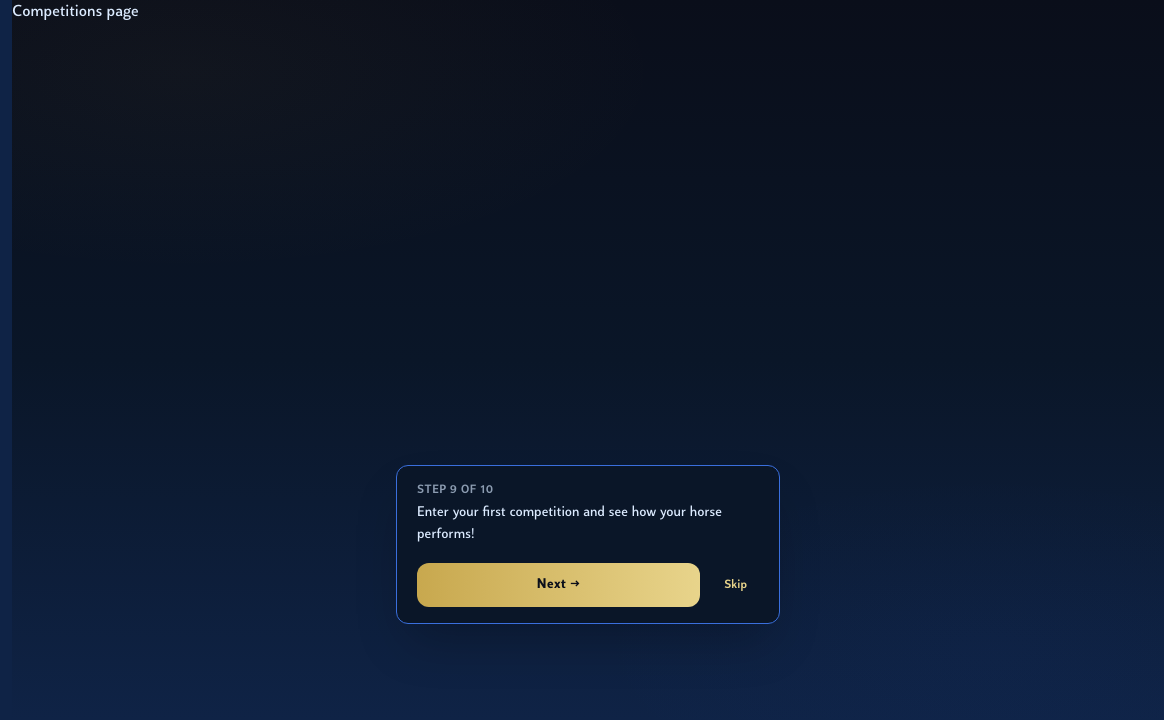
Test: OnboardingSpotlight final card (Equoria-hlo5x) › Next on card 9 shows card 10, and Finish! on card 10 completes the tour
Expected: the text "Step 9 of 10" is shown, x1=417 y1=484 x2=493 y2=496
Click the button "Next →". click: (559, 585)
box: x1=417 y1=563 x2=700 y2=607
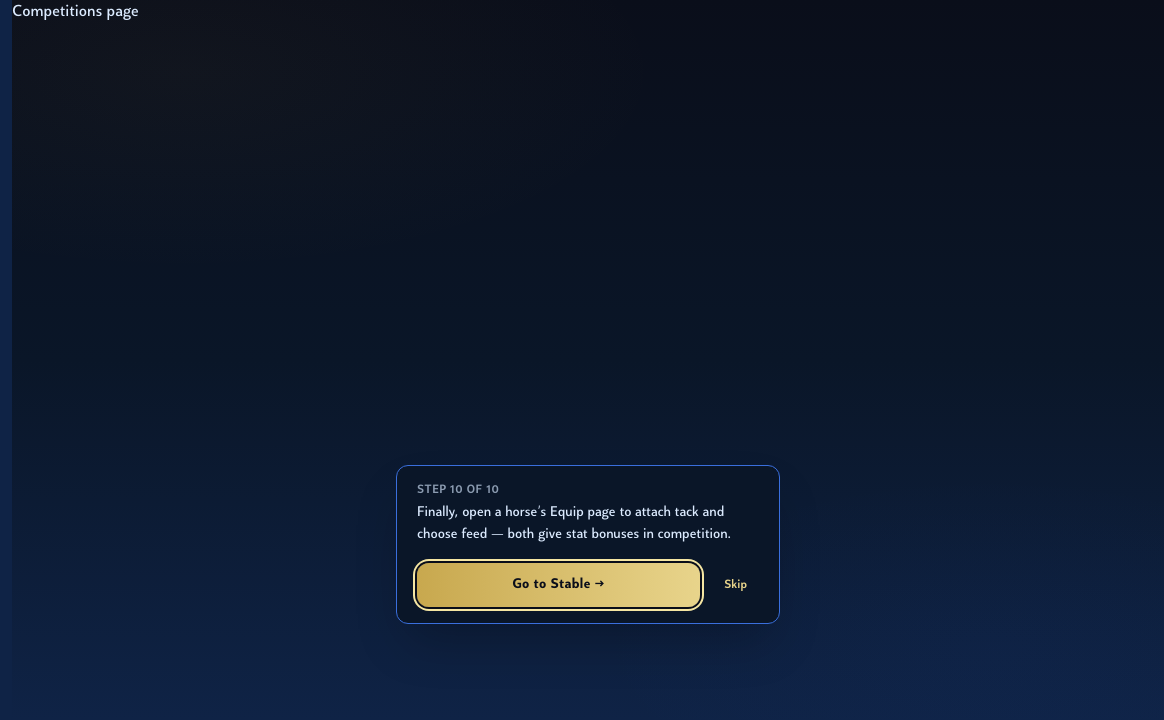
Now the text "Step 10 of 10" is shown, box x1=417 y1=484 x2=499 y2=496
Now the text "Equip page" is shown, box x1=417 y1=504 x2=731 y2=542
Click the button "Go to Stable →". click: (559, 585)
box: x1=417 y1=563 x2=700 y2=607
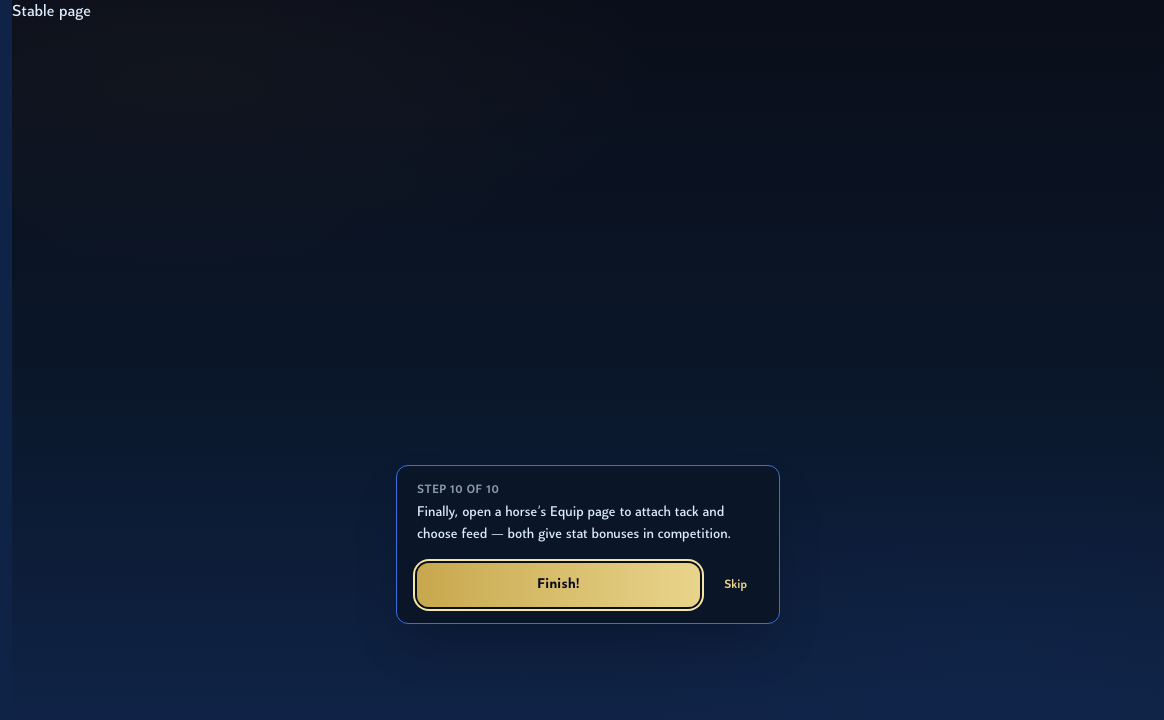
Now the text "Stable page" is shown, box x1=12 y1=4 x2=91 y2=20
Click the button "Finish!". click: (559, 585)
box: x1=417 y1=563 x2=700 y2=607
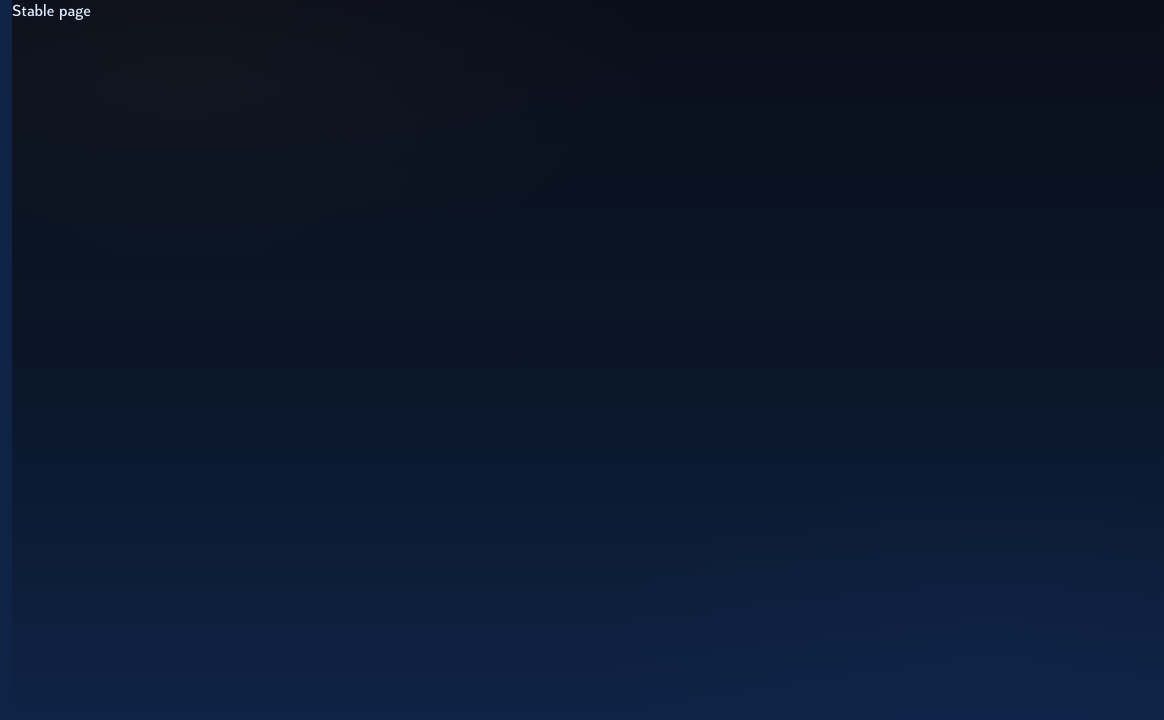
Now the text "Step 10 of 10" is gone
